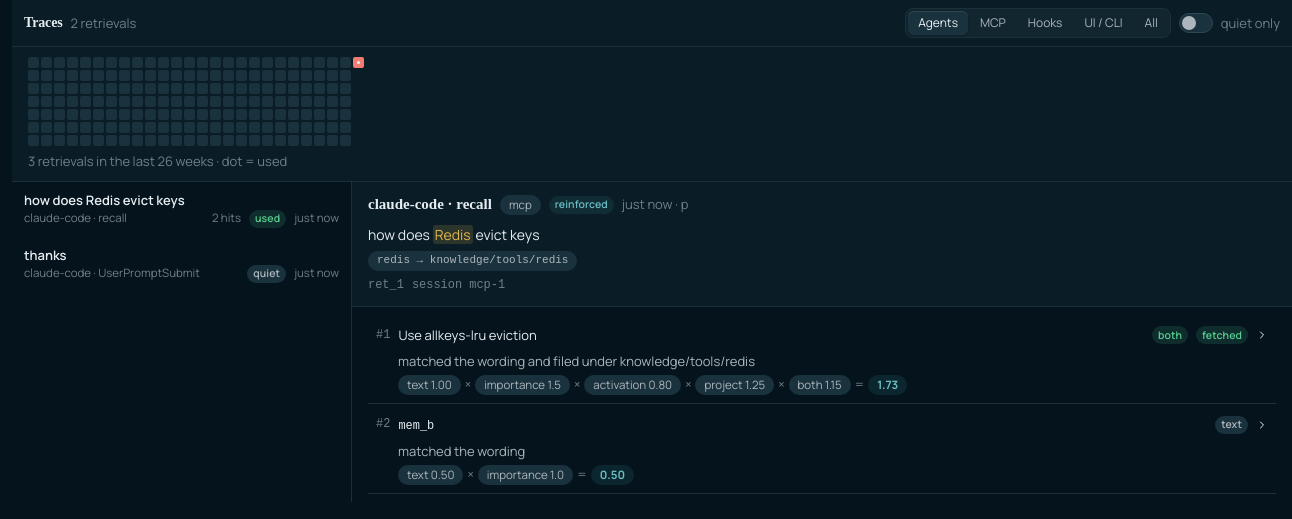
Scenario: TracesView › lists retrievals and explains the selected one
This screenshot has width=1292, height=519.
Expected: the text "Use allkeys-lru eviction" is shown, left=398, top=326, right=537, bottom=344
Expected: the text "redis → knowledge/tools/redis" is shown, left=368, top=251, right=578, bottom=271
Step 1. Click the button "thanks claude-code · UserPromptSubmit quiet just now" → (182, 264), box left=12, top=237, right=351, bottom=292
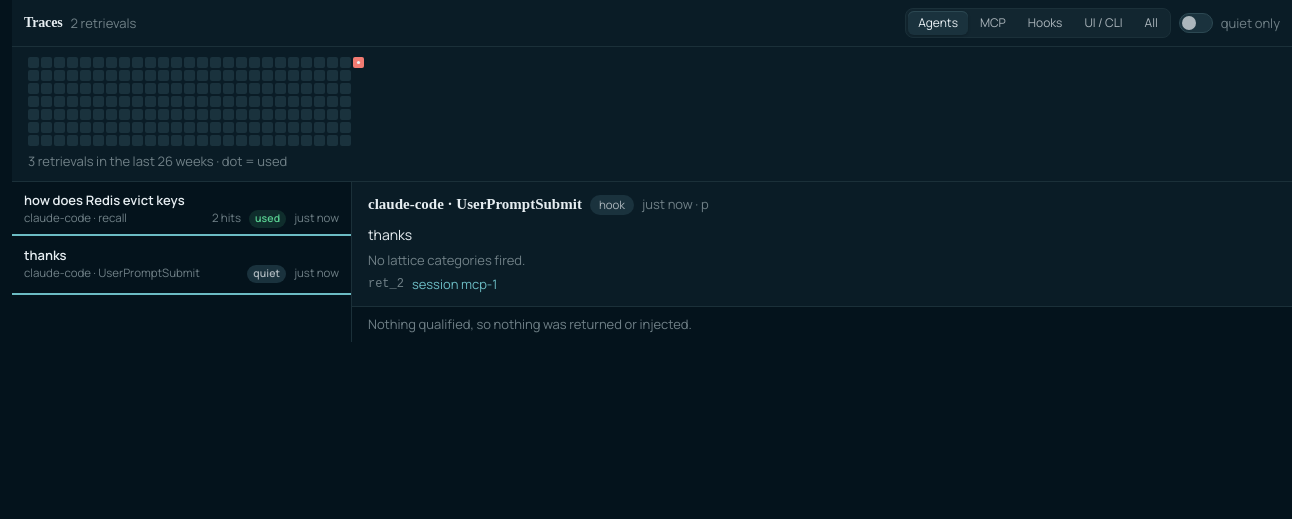
Now the text "Nothing qualified, so nothing was returned or injected." is shown, box left=368, top=315, right=692, bottom=333
Now the text "ret_2" is shown, box left=368, top=276, right=404, bottom=294
